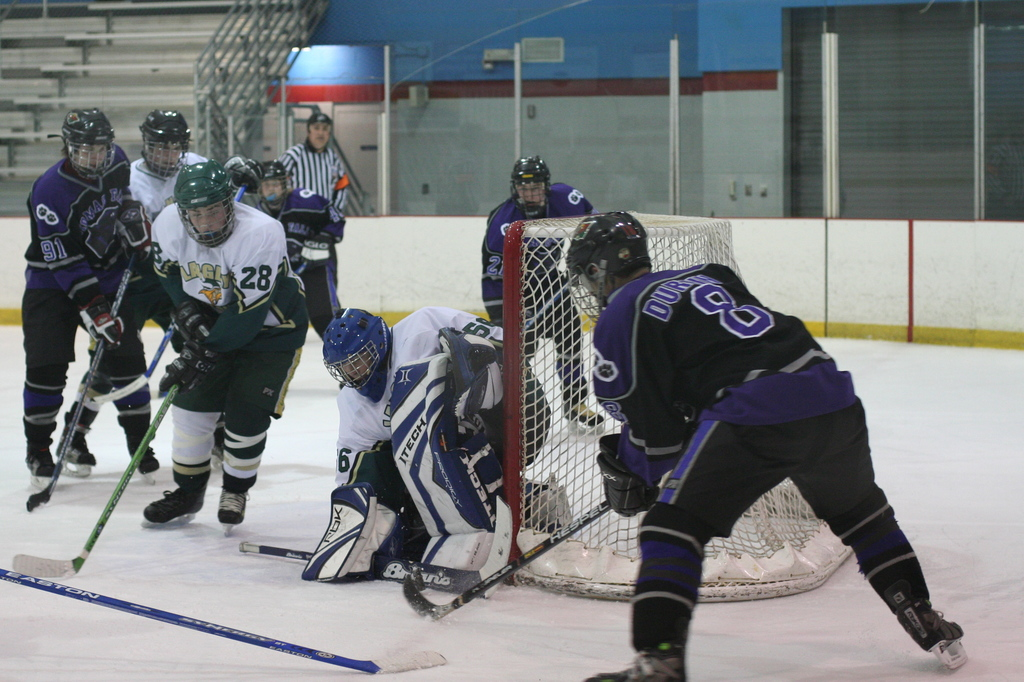Person: (20, 106, 967, 681)
